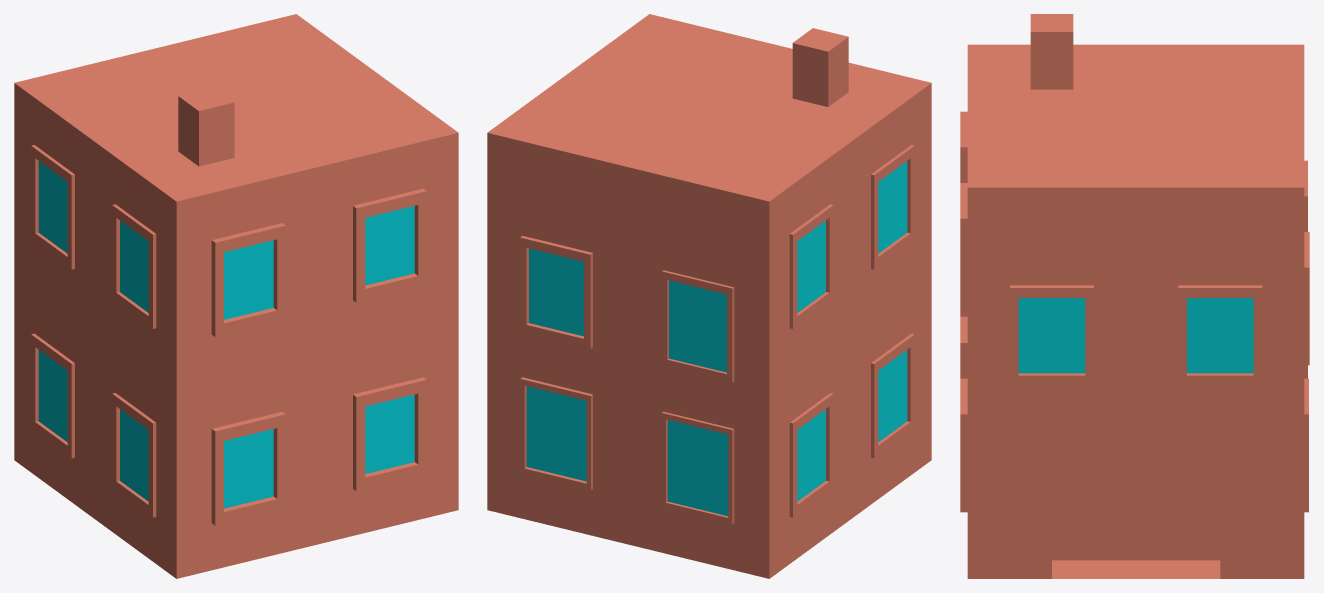
Rendered from Predio1.fbx.
The picture shows the model from 3 angles, left to right: view 1: azimuth 30°, elevation 25°; view 2: azimuth 150°, elevation 25°; view 3: azimuth 270°, elevation 25°; orthographic projection. The views are drawn at different scales.
Parts seen in each view (by area): view 1: Cube; view 2: Cube; view 3: Cube.
Boxes of the visible parts, left/top/right/bottom form: Cube: left=14, top=14, right=458, bottom=578; Cube: left=487, top=14, right=931, bottom=578; Cube: left=960, top=14, right=1309, bottom=578.
Size of the model in its own units: 352 by 500 by 353.
